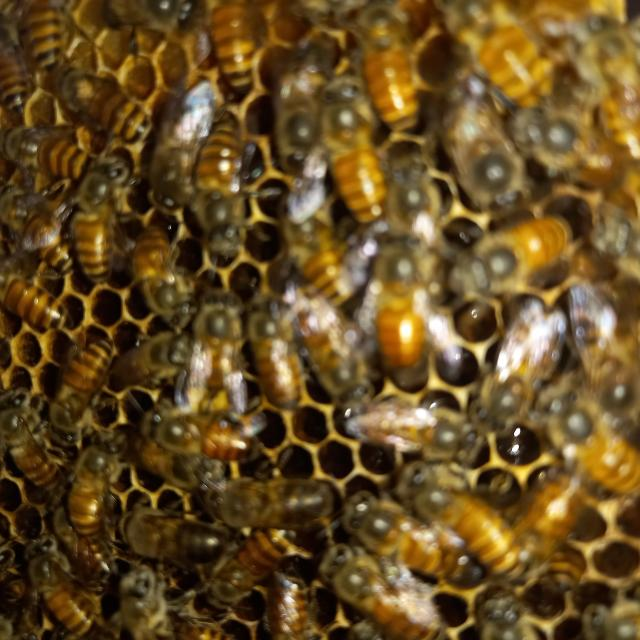honeybee: (434, 0, 598, 166), (413, 54, 526, 212), (399, 462, 535, 584), (304, 76, 397, 236), (340, 383, 489, 482), (496, 449, 600, 585), (529, 379, 640, 501), (363, 234, 438, 404), (446, 220, 576, 308), (466, 292, 550, 428), (350, 498, 480, 584), (288, 282, 371, 410), (197, 517, 298, 619), (283, 180, 362, 310), (334, 556, 455, 640), (574, 18, 640, 163), (353, 0, 428, 126), (186, 286, 252, 427), (135, 397, 261, 469), (141, 78, 206, 216), (246, 294, 318, 416), (0, 397, 72, 519), (109, 203, 187, 312), (17, 538, 98, 640), (555, 268, 640, 362), (270, 58, 332, 178), (202, 477, 333, 533), (92, 328, 198, 395), (386, 146, 446, 262), (103, 558, 186, 640), (70, 150, 123, 278), (200, 0, 266, 98), (560, 0, 640, 80), (260, 546, 326, 640), (41, 336, 104, 432), (0, 120, 93, 182), (0, 248, 64, 336), (49, 512, 120, 590), (0, 182, 65, 265), (76, 84, 161, 146), (195, 105, 249, 201), (66, 448, 118, 534), (591, 200, 640, 288), (17, 0, 69, 78), (468, 588, 540, 640), (113, 0, 199, 41), (0, 26, 39, 111), (546, 542, 586, 592)
